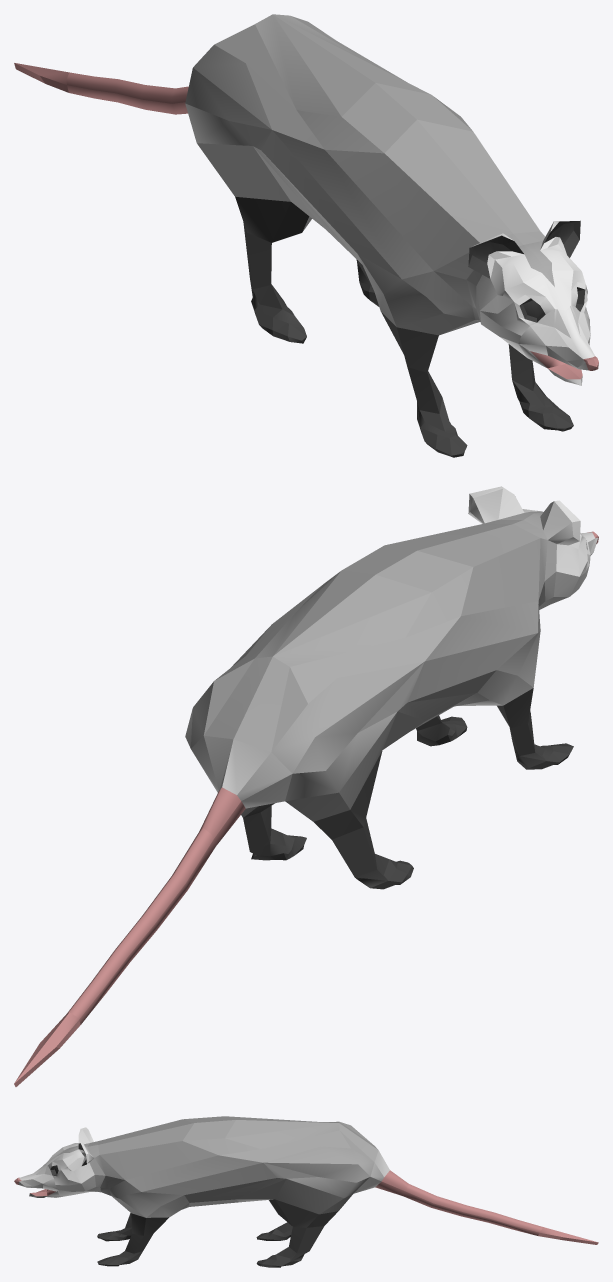
Rendered from Opposum.fbx.
The picture shows the model from 3 angles, top to bottom: view 1: azimuth 30°, elevation 25°; view 2: azimuth 150°, elevation 25°; view 3: azimuth 270°, elevation 25°; orthographic projection. The views are drawn at different scales.
Visible parts, largest first — view 1: Opposum; view 2: Opposum; view 3: Opposum.
Part boxes in pixels (<box>): Opposum: <box>14,14,598,457</box>; Opposum: <box>14,486,598,1086</box>; Opposum: <box>14,1116,598,1267</box>.
Bounding box in the file's own units: 14.89 × 24.57 × 98.41.
